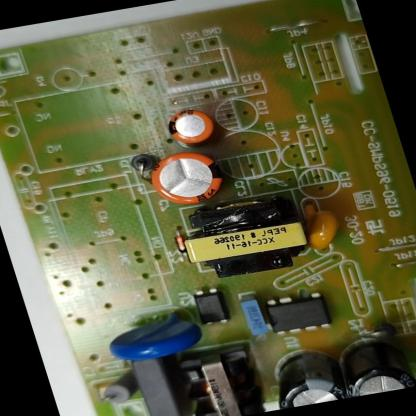Cap1: (138, 140, 235, 216)
Cap2: (156, 99, 228, 151)
Cap3: (258, 341, 355, 410)
Cap4: (330, 331, 416, 398)
MOSFET: (253, 284, 343, 340)
Mov: (98, 306, 214, 368)
Resistor: (90, 369, 148, 408)
Transformer: (168, 182, 324, 289), (165, 336, 279, 416)
